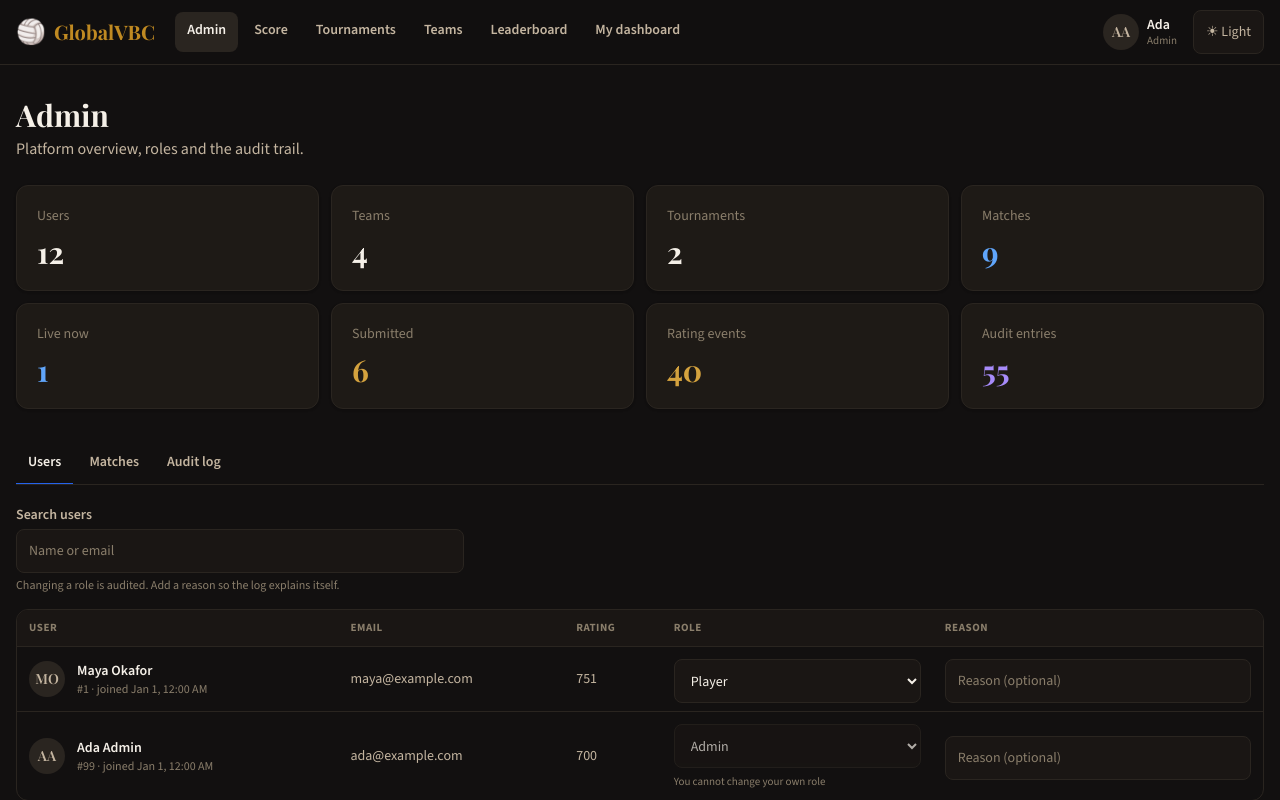
Test: Admin › shows the audit log with an expandable before/after diff
The image size is (1280, 800).
Expected: the text "Maya Okafor" is shown, [77,661,152,680]
What coordinates should you click on to do the following:
click the tab "Audit log"
I would click on:
 (194, 463)
Its box is [155,441,233,485].
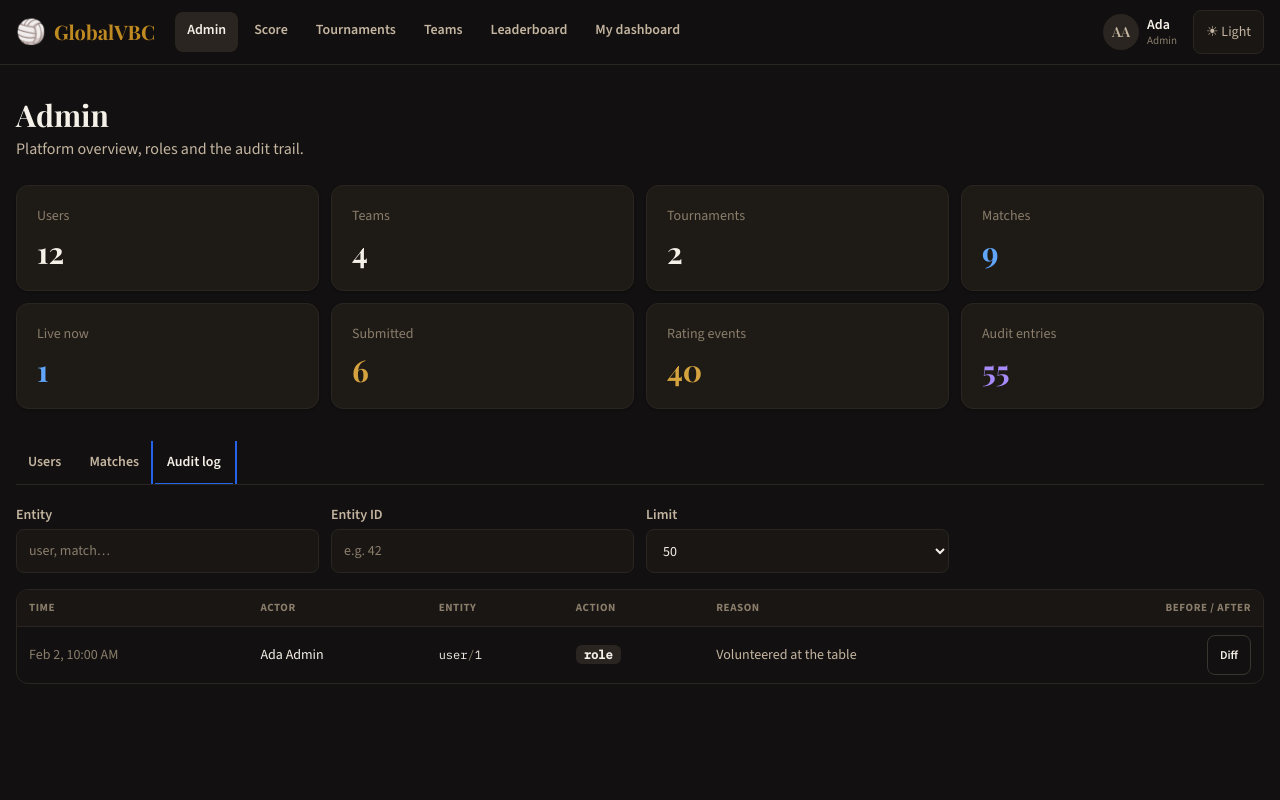
Expected: the text "Volunteered at the table" is shown, [704,626,1040,683]
What coordinates should you click on to do the following:
click the button "Diff"
I would click on:
 (1229, 655)
Its box is [1207,635,1251,675].
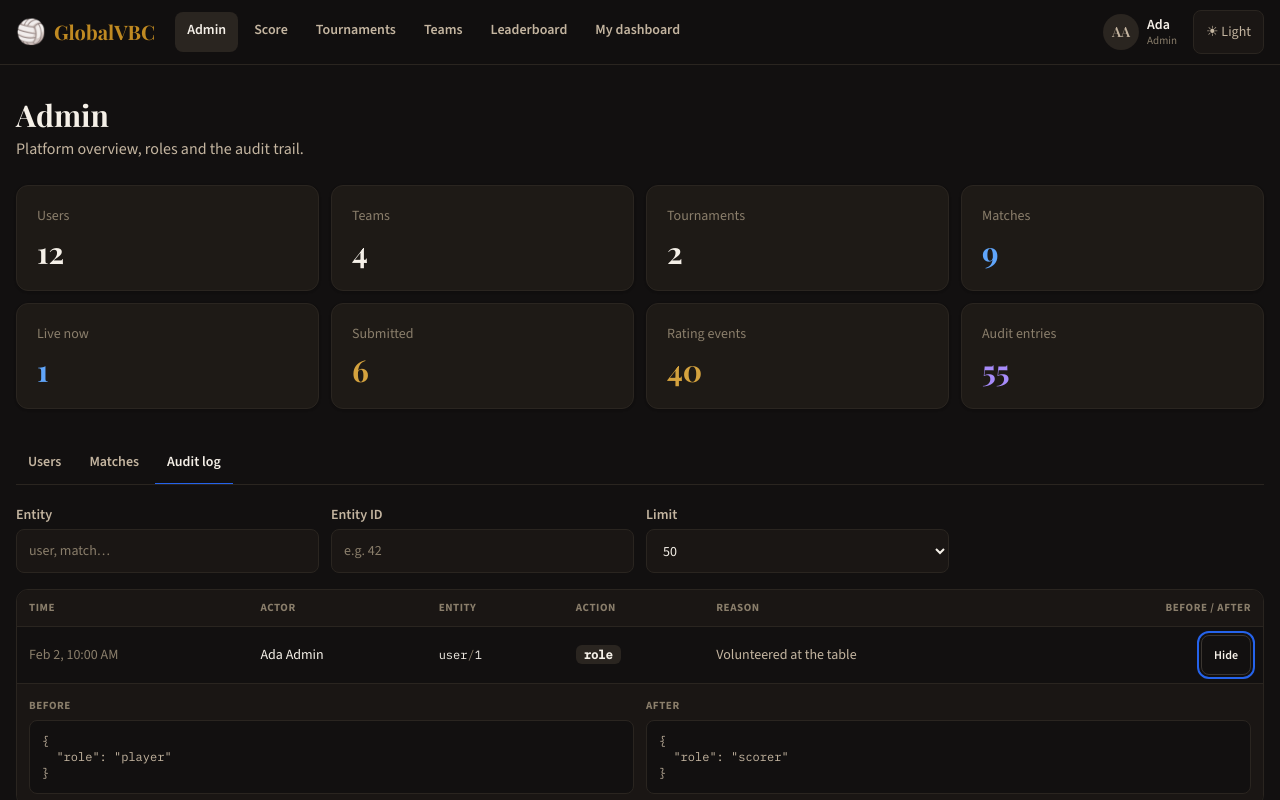
Expected: the text "{ \"role\": \"scorer\" }" is shown, [646,720,1251,794]
Expected: the text "{ \"role\": \"player\" }" is shown, [29,720,634,794]
